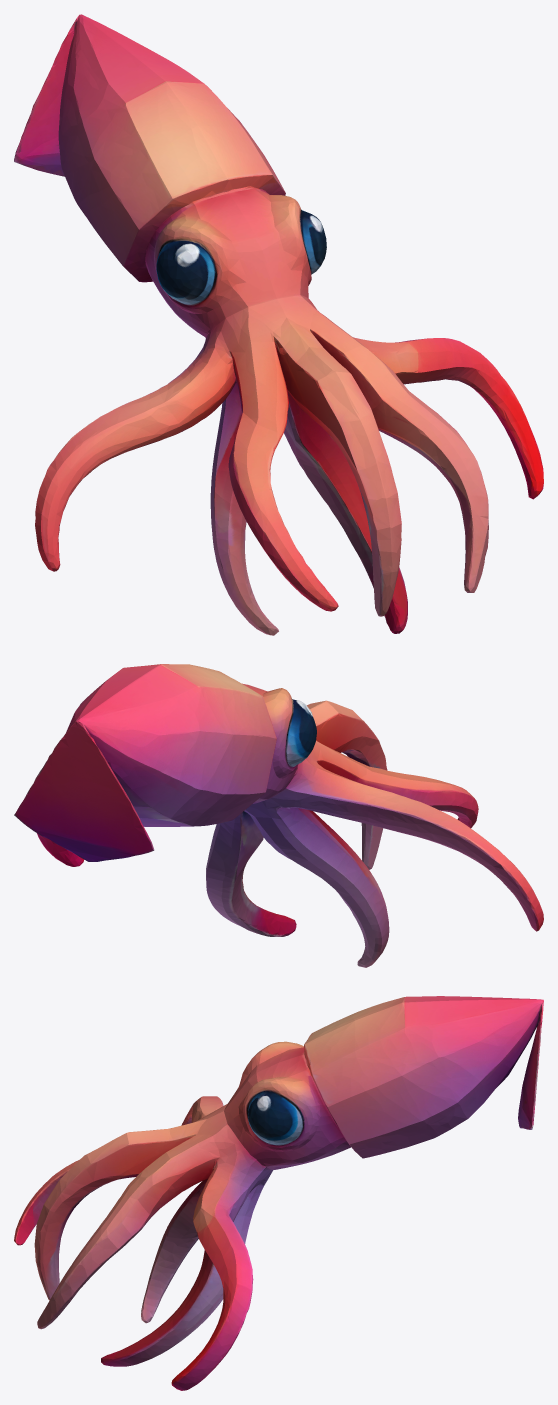
Rendered from stylized+squid+3d+model.glb.
3 renders of one model, top to bottom at view 1: azimuth 30°, elevation 25°; view 2: azimuth 150°, elevation 25°; view 3: azimuth 270°, elevation 25°, orthographic. The views are drawn at different scales.
Visible parts, largest first — view 1: tripo_node_9540dc0e-eb0b-423b-b02d-c1b4211673d8; view 2: tripo_node_9540dc0e-eb0b-423b-b02d-c1b4211673d8; view 3: tripo_node_9540dc0e-eb0b-423b-b02d-c1b4211673d8.
Boxes of the visible parts, box(x1,y1,x2,y2) form: tripo_node_9540dc0e-eb0b-423b-b02d-c1b4211673d8: box(14, 14, 543, 635); tripo_node_9540dc0e-eb0b-423b-b02d-c1b4211673d8: box(14, 664, 543, 967); tripo_node_9540dc0e-eb0b-423b-b02d-c1b4211673d8: box(14, 996, 543, 1390).
Bounding box in the file's own units: 0.8893 × 0.7272 × 1.
1 material, 1 textured.
